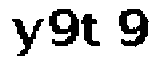9: (112, 6, 153, 51), (47, 7, 80, 50)
t: (79, 12, 102, 49)
y: (9, 17, 46, 60)
